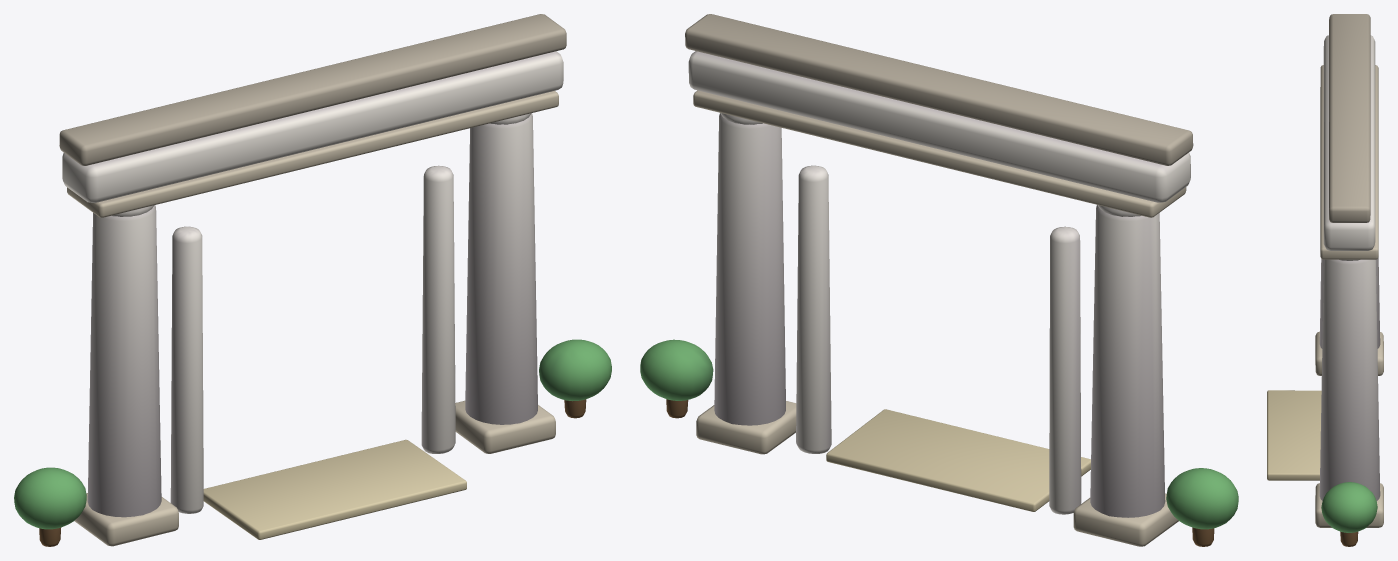
The picture shows the model from 3 angles, left to right: view 1: azimuth 30°, elevation 25°; view 2: azimuth 150°, elevation 25°; view 3: azimuth 270°, elevation 25°; orthographic projection. The views are drawn at different scales.
Visible parts, largest first — view 1: gate_57acdf02; view 2: gate_57acdf02; view 3: gate_57acdf02.
Part boxes in pixels (x1,y1,x2,y2): gate_57acdf02: (14, 14, 611, 546); gate_57acdf02: (640, 14, 1238, 546); gate_57acdf02: (1267, 14, 1383, 546).
Size of the model in its own units: 6.77 by 4.39 by 1.41.
